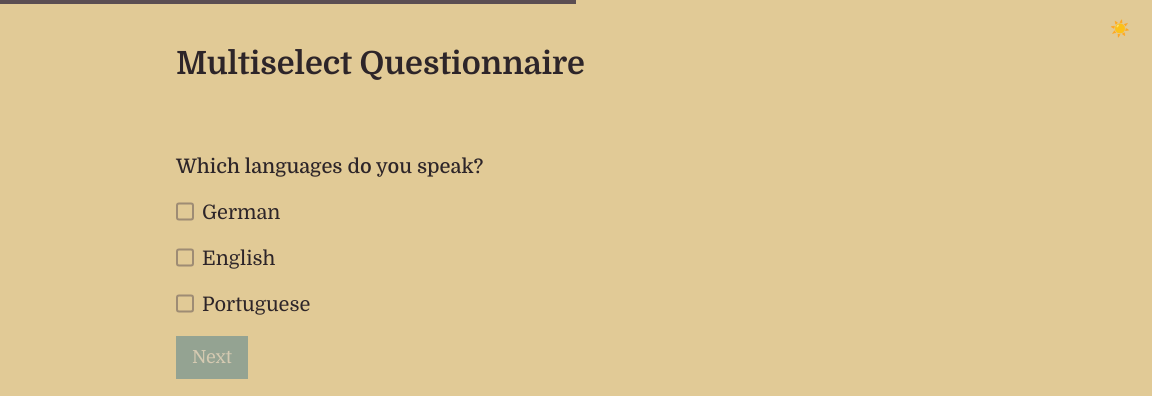
Test: App Integration Tests › Selecting multiple options
Expected: the text "Which languages do you speak?" is shown, top-left (176, 155), bottom-right (483, 178)
Click the checkbox labelled "English". click: (185, 258)
box: top-left (176, 248), bottom-right (194, 266)
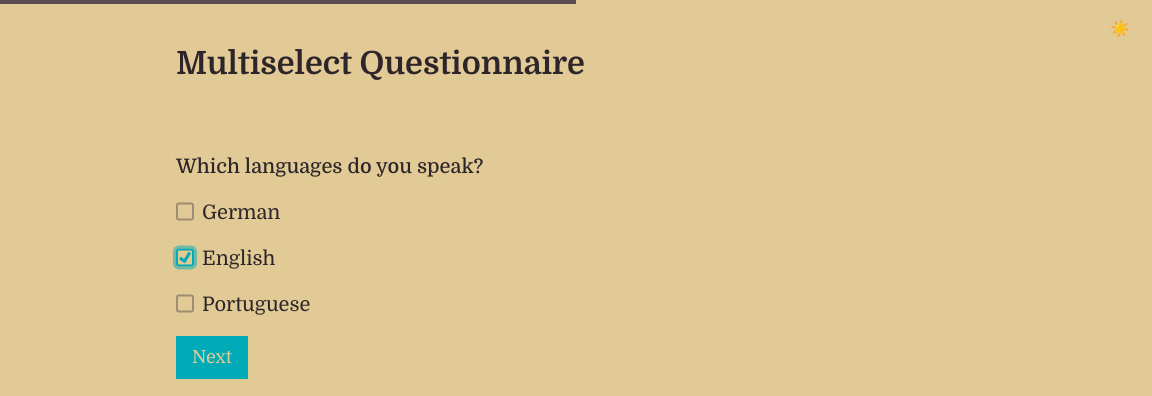
Click the checkbox labelled "Portuguese". click: (185, 304)
box: top-left (176, 294), bottom-right (194, 312)
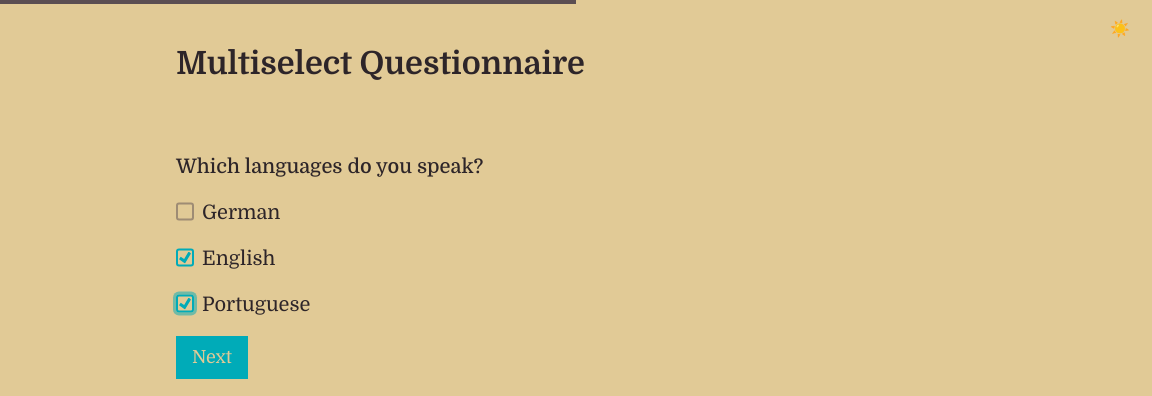
Click the button "Next". click: (212, 358)
box: top-left (176, 336), bottom-right (248, 379)
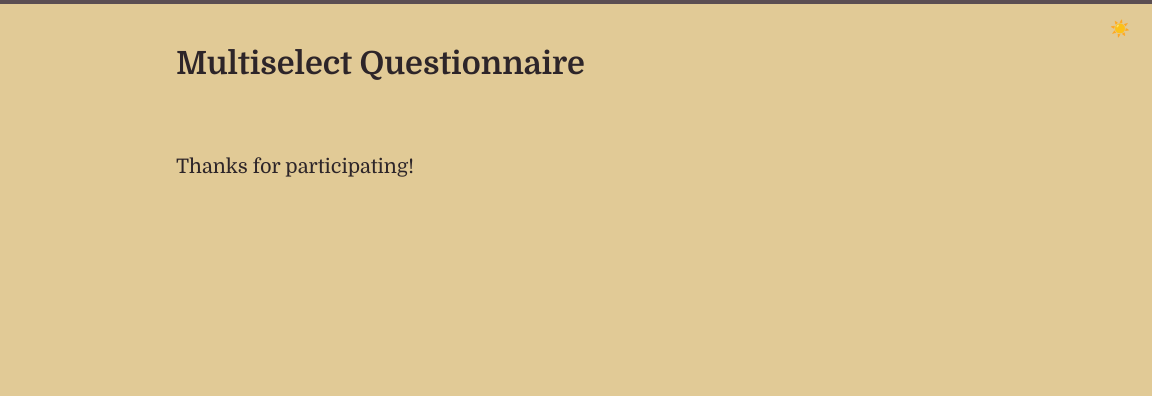
Expected: the text "Thanks for participating!" is shown, top-left (176, 155), bottom-right (414, 178)
